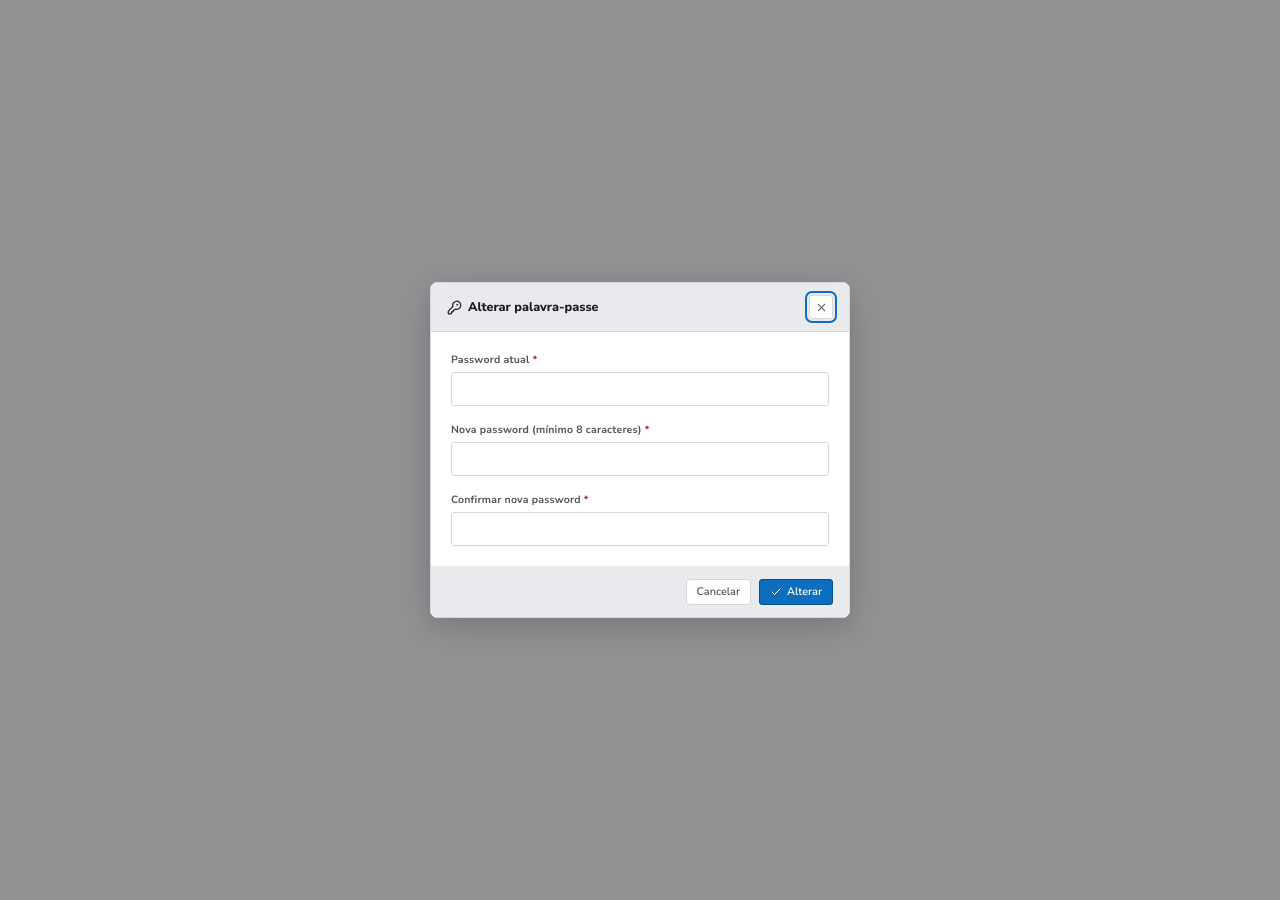
Test case: AlterarPasswordModal (#219) › confirmação diferente e password curta → erros inline, sem pedido ao servidor
Type "antiga123" into the password field labelled "Password atual" at {"x": 640, "y": 389}, box [451, 372, 829, 406]
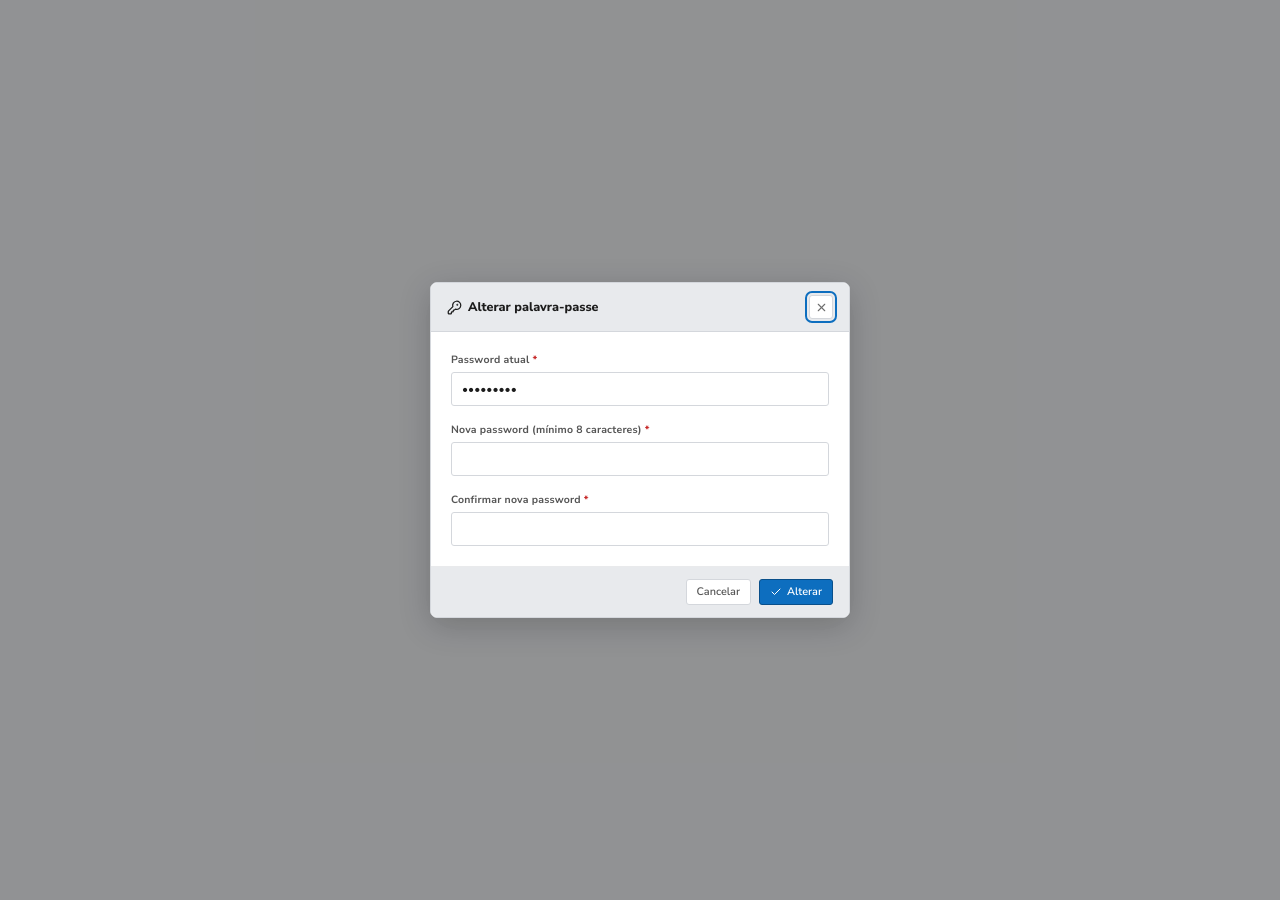
Type "curta" into the password field labelled "Nova password (mínimo 8 caracteres)" at {"x": 640, "y": 459}, box [451, 442, 829, 476]
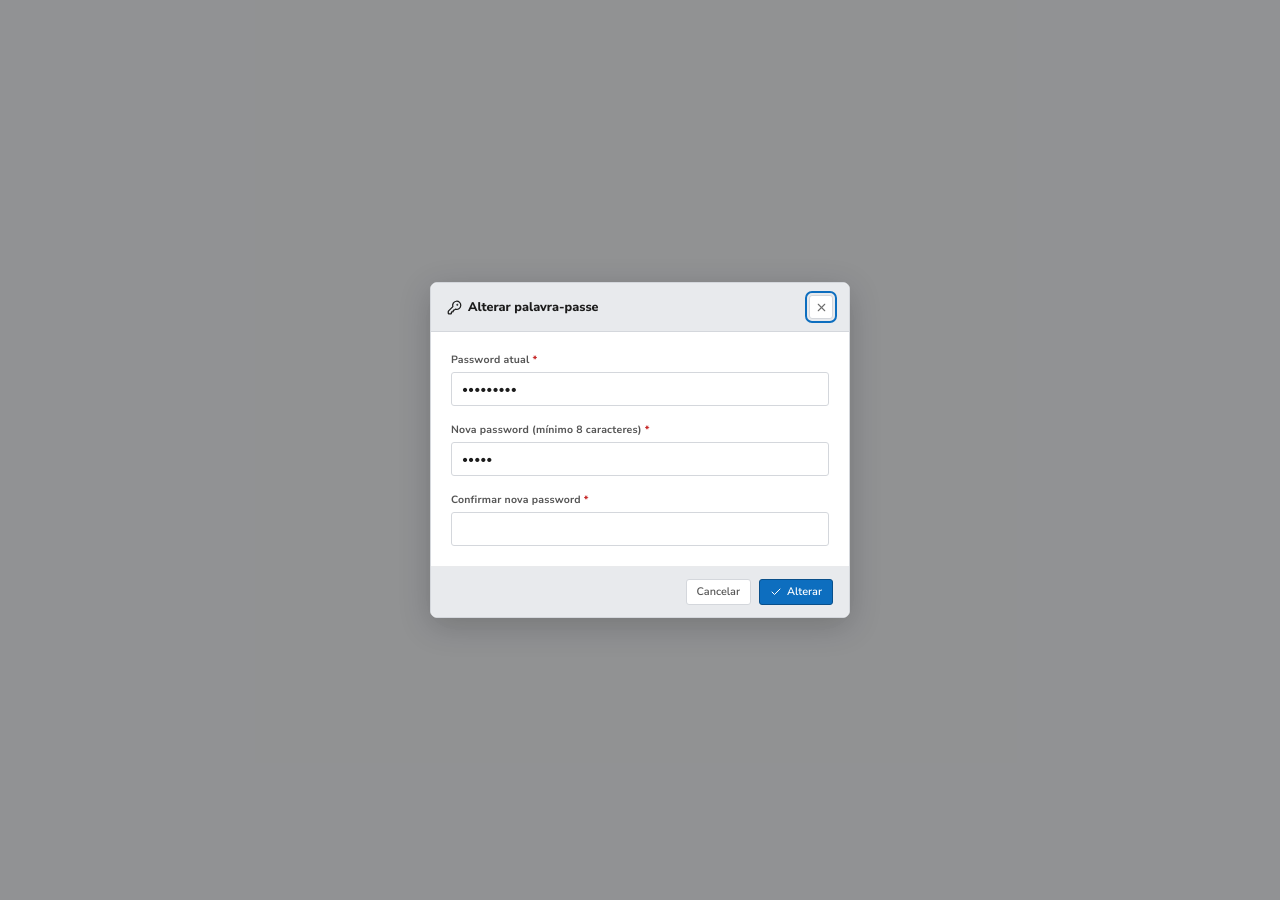
Type "outra" into the password field labelled "Confirmar nova password" at {"x": 640, "y": 529}, box [451, 512, 829, 546]
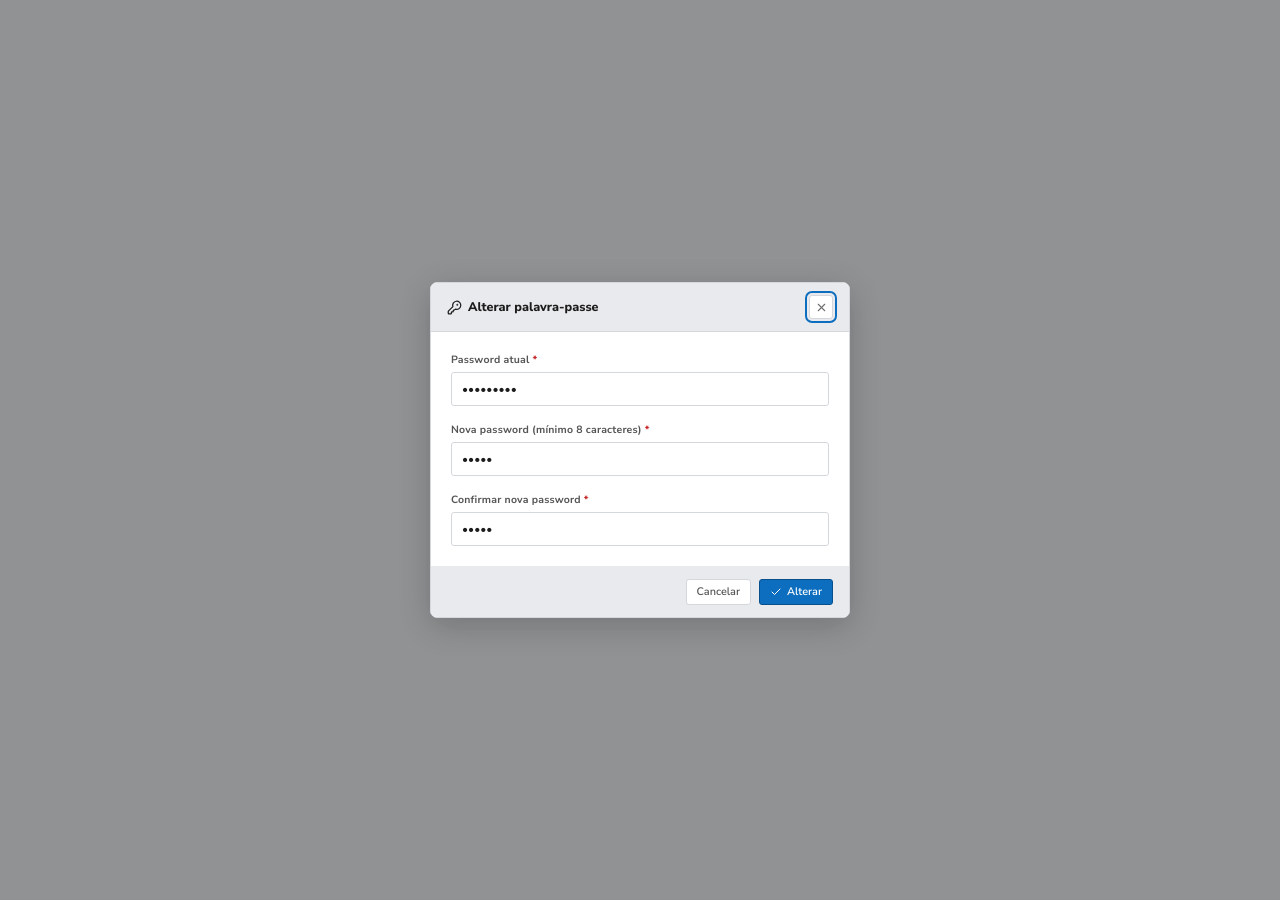
Click the button "Alterar" at {"x": 796, "y": 592}, box [759, 579, 833, 605]
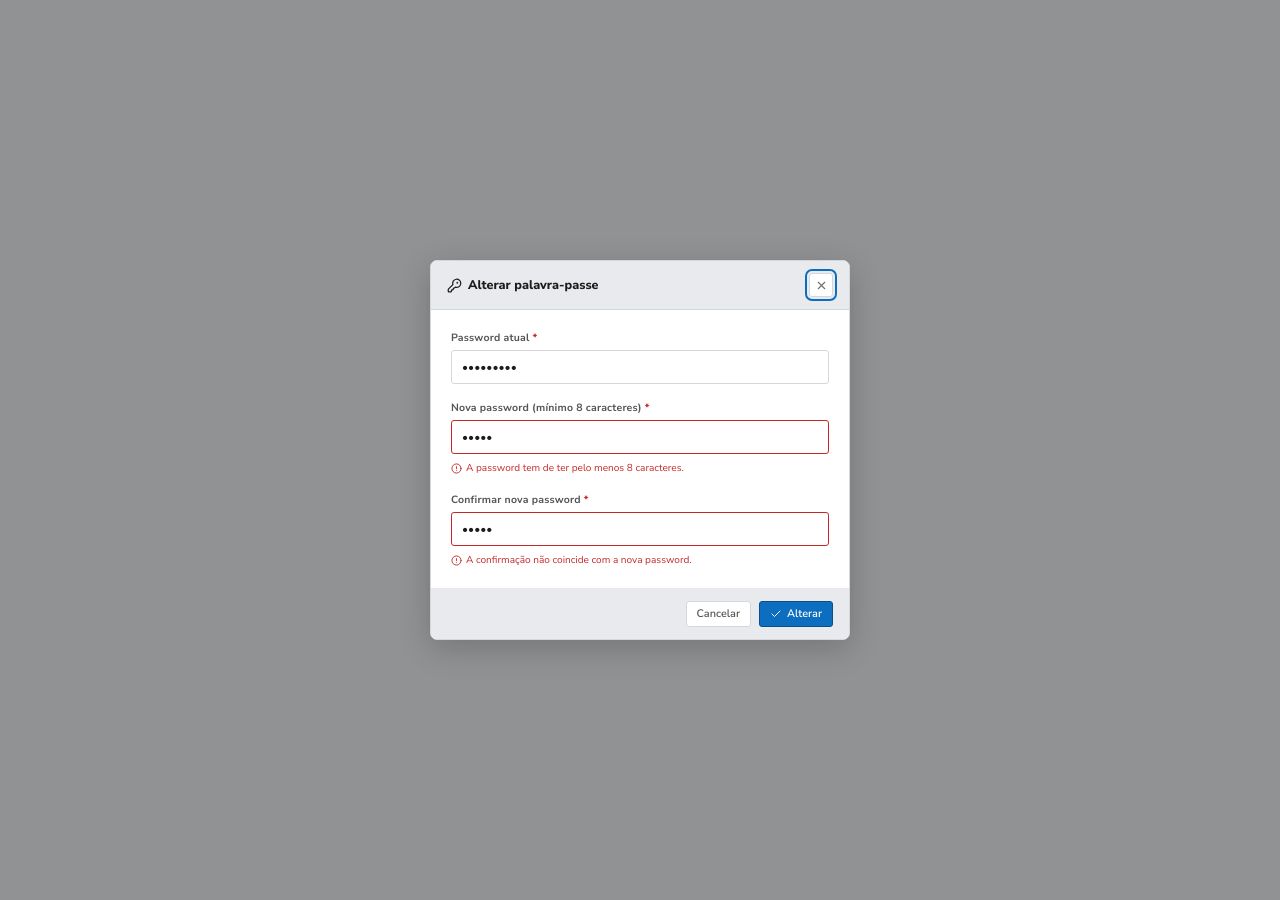
Check: the text "A password tem de ter pelo menos 8 caracteres." is shown, box [451, 461, 684, 475]
Check: the text "A confirmação não coincide com a nova password." is shown, box [451, 553, 692, 567]
